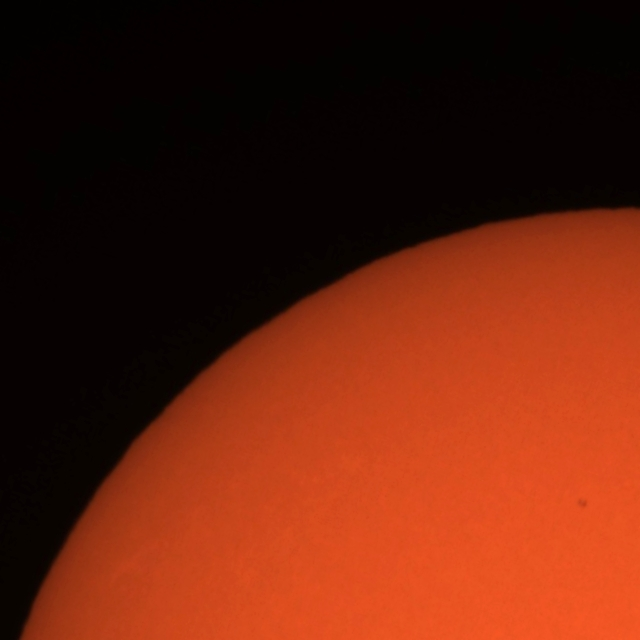sunspot: (575, 496, 590, 511)
